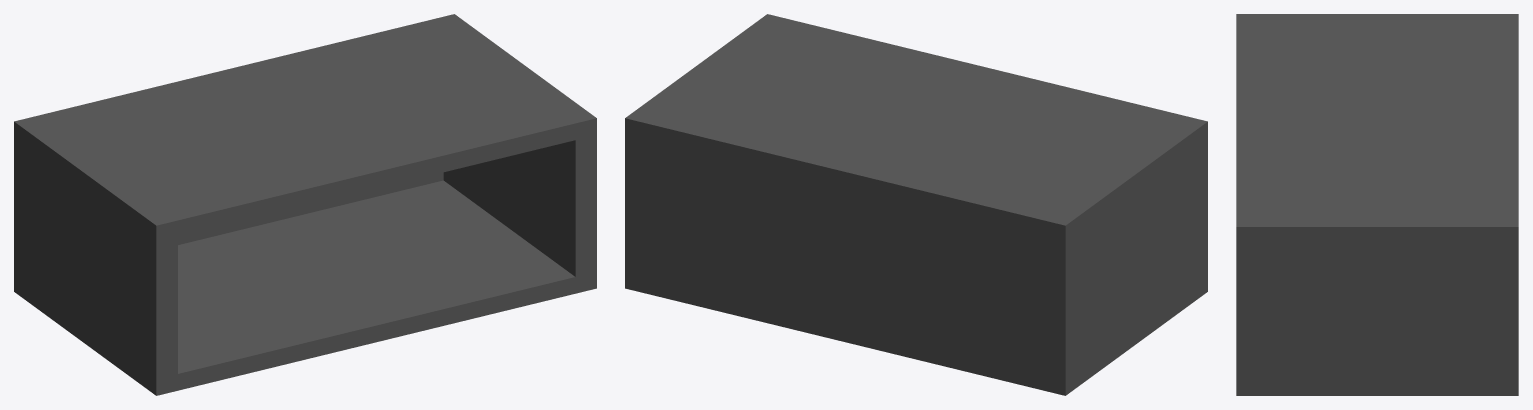
File: Itr_Wardrobe3_Body1_04.FBX
3 renders of one model, left to right at view 1: azimuth 30°, elevation 25°; view 2: azimuth 150°, elevation 25°; view 3: azimuth 270°, elevation 25°, orthographic.
Parts seen in each view (by area): view 1: Itr_Wardrobe3_Body1_04; view 2: Itr_Wardrobe3_Body1_04; view 3: Itr_Wardrobe3_Body1_04.
Part boxes in pixels (x1,y1,x2,y2): Itr_Wardrobe3_Body1_04: (14,14,596,395); Itr_Wardrobe3_Body1_04: (625,14,1207,395); Itr_Wardrobe3_Body1_04: (1236,14,1518,395).
Bounding box in the file's own units: 43.75 × 16.16 × 24.49.
